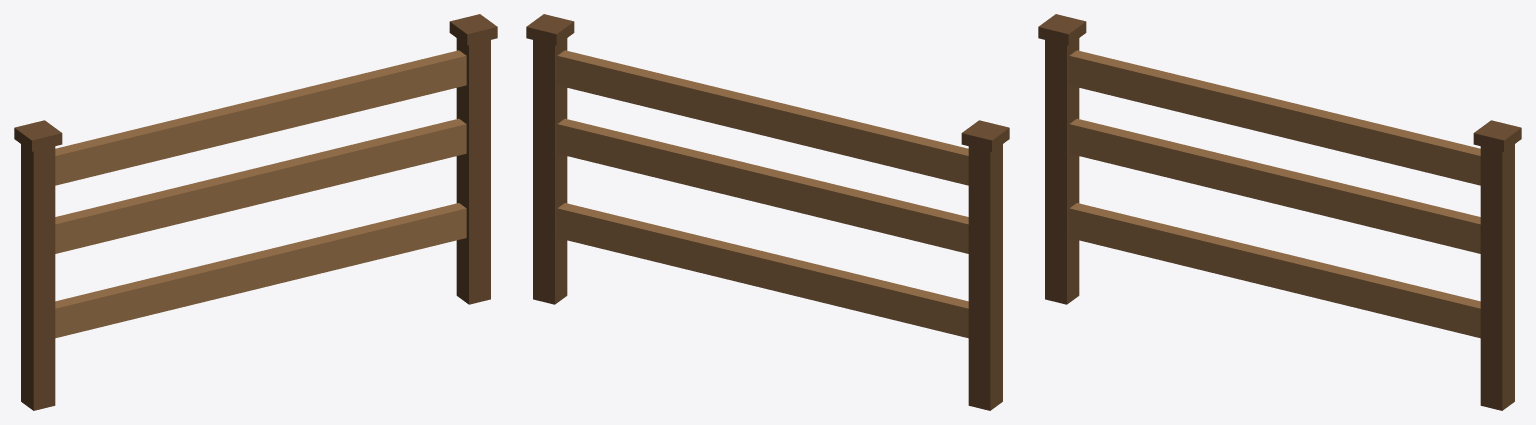
File: prop_fence.glb
The picture shows the model from 3 angles, left to right: view 1: azimuth 30°, elevation 25°; view 2: azimuth 150°, elevation 25°; view 3: azimuth 330°, elevation 25°; orthographic projection.
Parts seen in each view (by area): view 1: rail.002, rail.001, rail, post, post.001, cap, cap.001; view 2: rail.002, rail.001, rail, post, post.001, cap, cap.001; view 3: rail.002, rail.001, rail, post.001, post, cap, cap.001.
Part boxes in pixels (x1,y1,x2,y2): rail.002: (55, 50, 466, 185); rail.001: (55, 118, 466, 253); rail: (55, 203, 466, 338); post: (21, 144, 55, 410); post.001: (456, 38, 490, 304); cap: (14, 120, 62, 151); cap.001: (449, 14, 497, 45); rail.002: (557, 50, 968, 185); rail.001: (557, 118, 968, 253); rail: (557, 203, 968, 338); post: (968, 144, 1002, 410); post.001: (533, 38, 567, 304); cap: (961, 120, 1009, 151); cap.001: (526, 14, 574, 45); rail.002: (1069, 50, 1480, 185); rail.001: (1069, 118, 1480, 253); rail: (1069, 203, 1480, 338); post.001: (1480, 144, 1514, 410); post: (1045, 38, 1079, 304); cap: (1038, 14, 1086, 45); cap.001: (1473, 120, 1521, 151).
Size of the model in its own units: 2.14 by 1.2 by 0.14.
